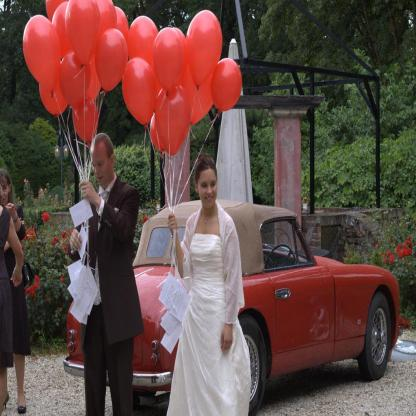Car: (65, 202, 407, 416)
